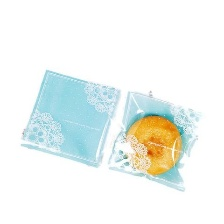snack: (14, 63, 126, 172), (103, 84, 207, 195)
